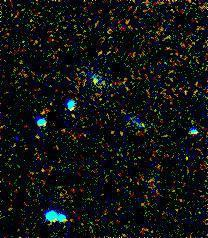star: (4, 123, 34, 153)
